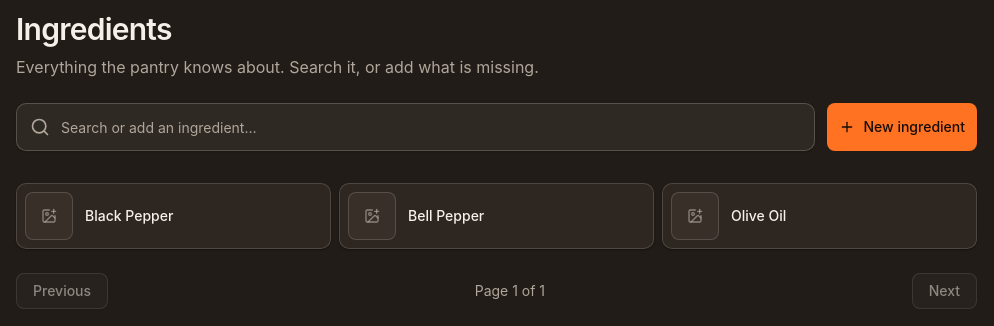
Test: IngredientListPage › narrows the catalog to the search term
Expected: the text "black pepper" is shown, [85, 207, 173, 224]
Type "pepper" into the search field labelled "Search or add an ingredient" at (416, 127), box [16, 103, 816, 151]
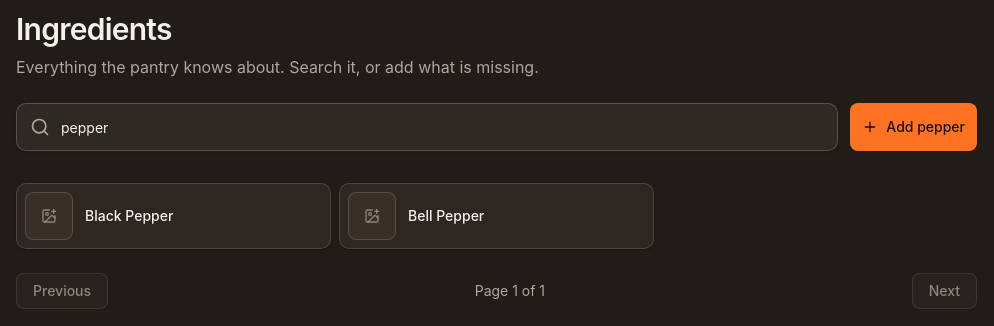
Expected: the text "bell pepper" is shown, [408, 207, 484, 224]
Result: the button "olive oil" is gone
